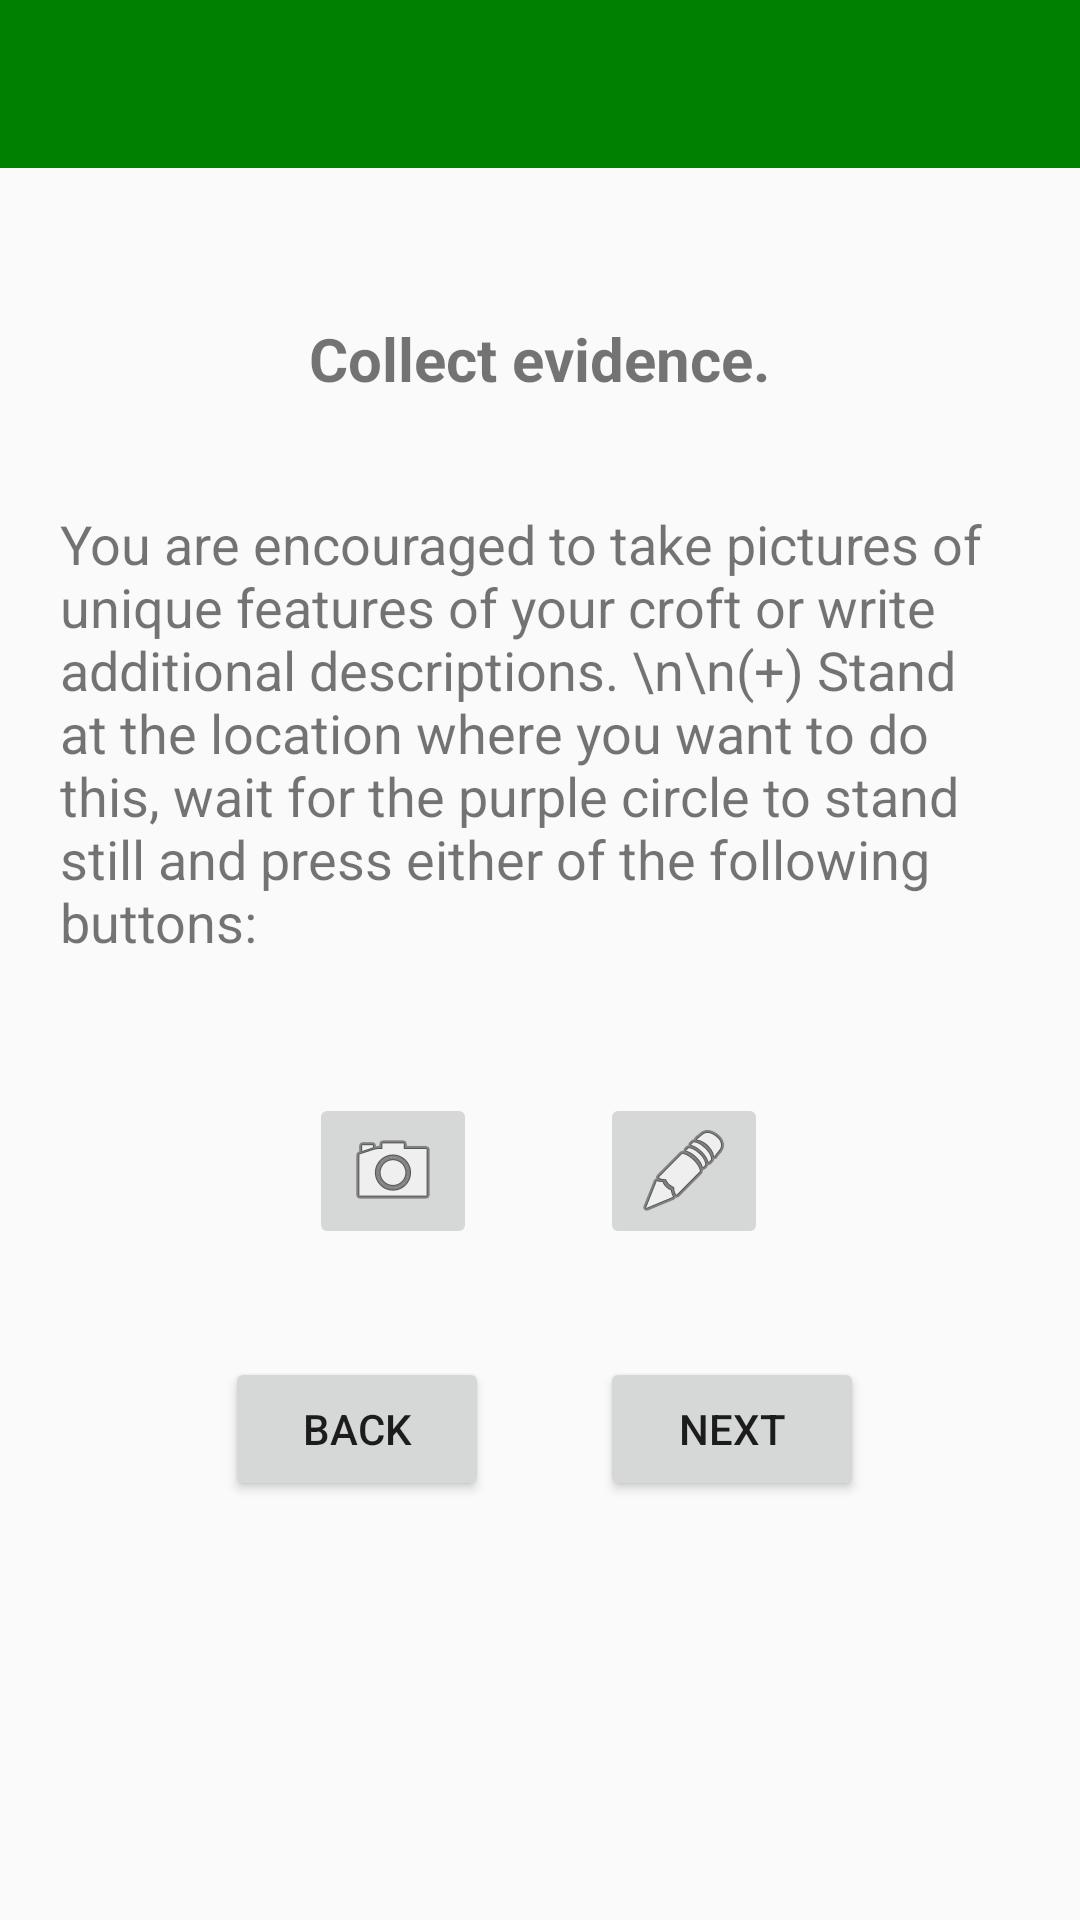

Screen size 1080w x 1920h. Icon name, then its center in pixels as [x,y]:
camera: [393,1171]
edit: [684,1171]
